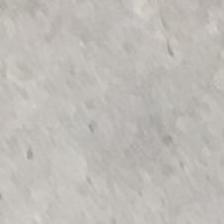Non_Crack: (23, 27, 208, 189)
